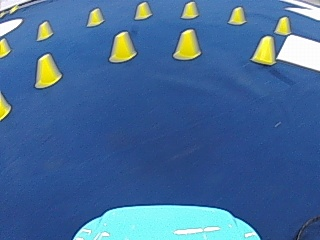cone: (34, 52, 62, 87), (108, 31, 137, 63), (172, 28, 201, 60), (250, 35, 276, 65), (227, 6, 245, 25), (36, 20, 53, 40), (180, 1, 198, 19), (134, 1, 151, 20), (274, 16, 291, 35), (86, 8, 103, 27), (1, 91, 11, 120), (0, 37, 11, 56)
